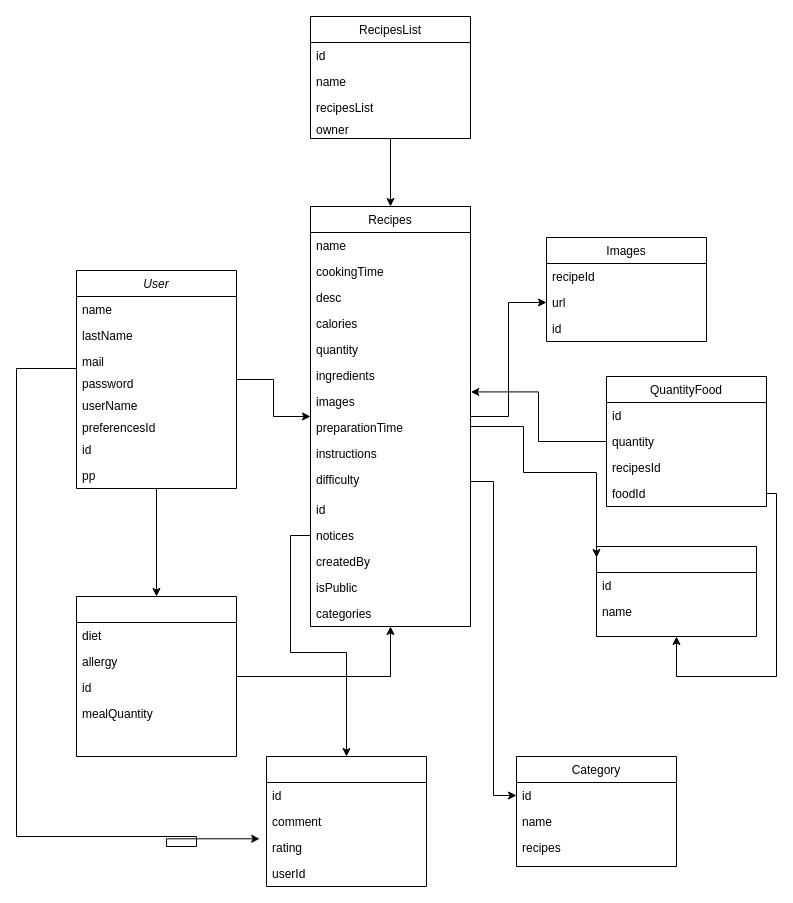
Some shapes in this 793 by 903 pixel diagram are drawn without their labels. The box of each missing label's shape, as (x1, y1, x2, y2) in pixels:
Food: (596, 546, 756, 636)
Notice: (266, 756, 426, 886)
Preferences: (76, 596, 236, 756)
